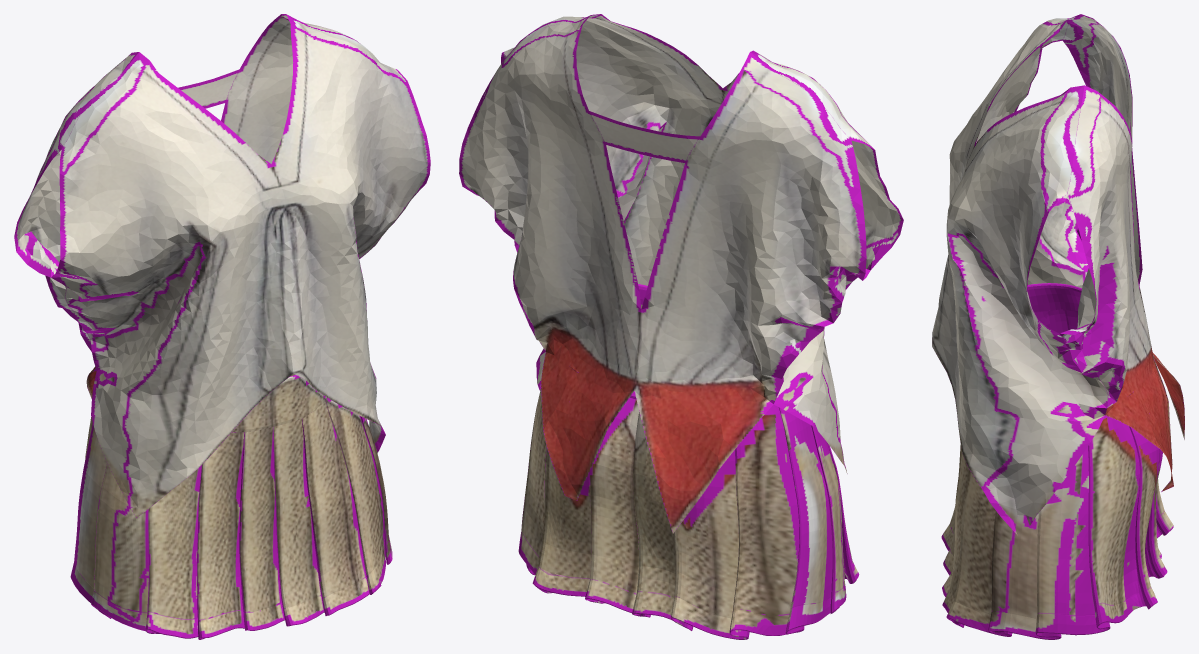
3 views of the same model, side by side, from view 1: azimuth 30°, elevation 25°; view 2: azimuth 150°, elevation 25°; view 3: azimuth 270°, elevation 25° (orthographic). The views are drawn at different scales.
Size of the model in its own units: 0.6187 by 0.8367 by 0.3559.
1 material, 1 textured.
